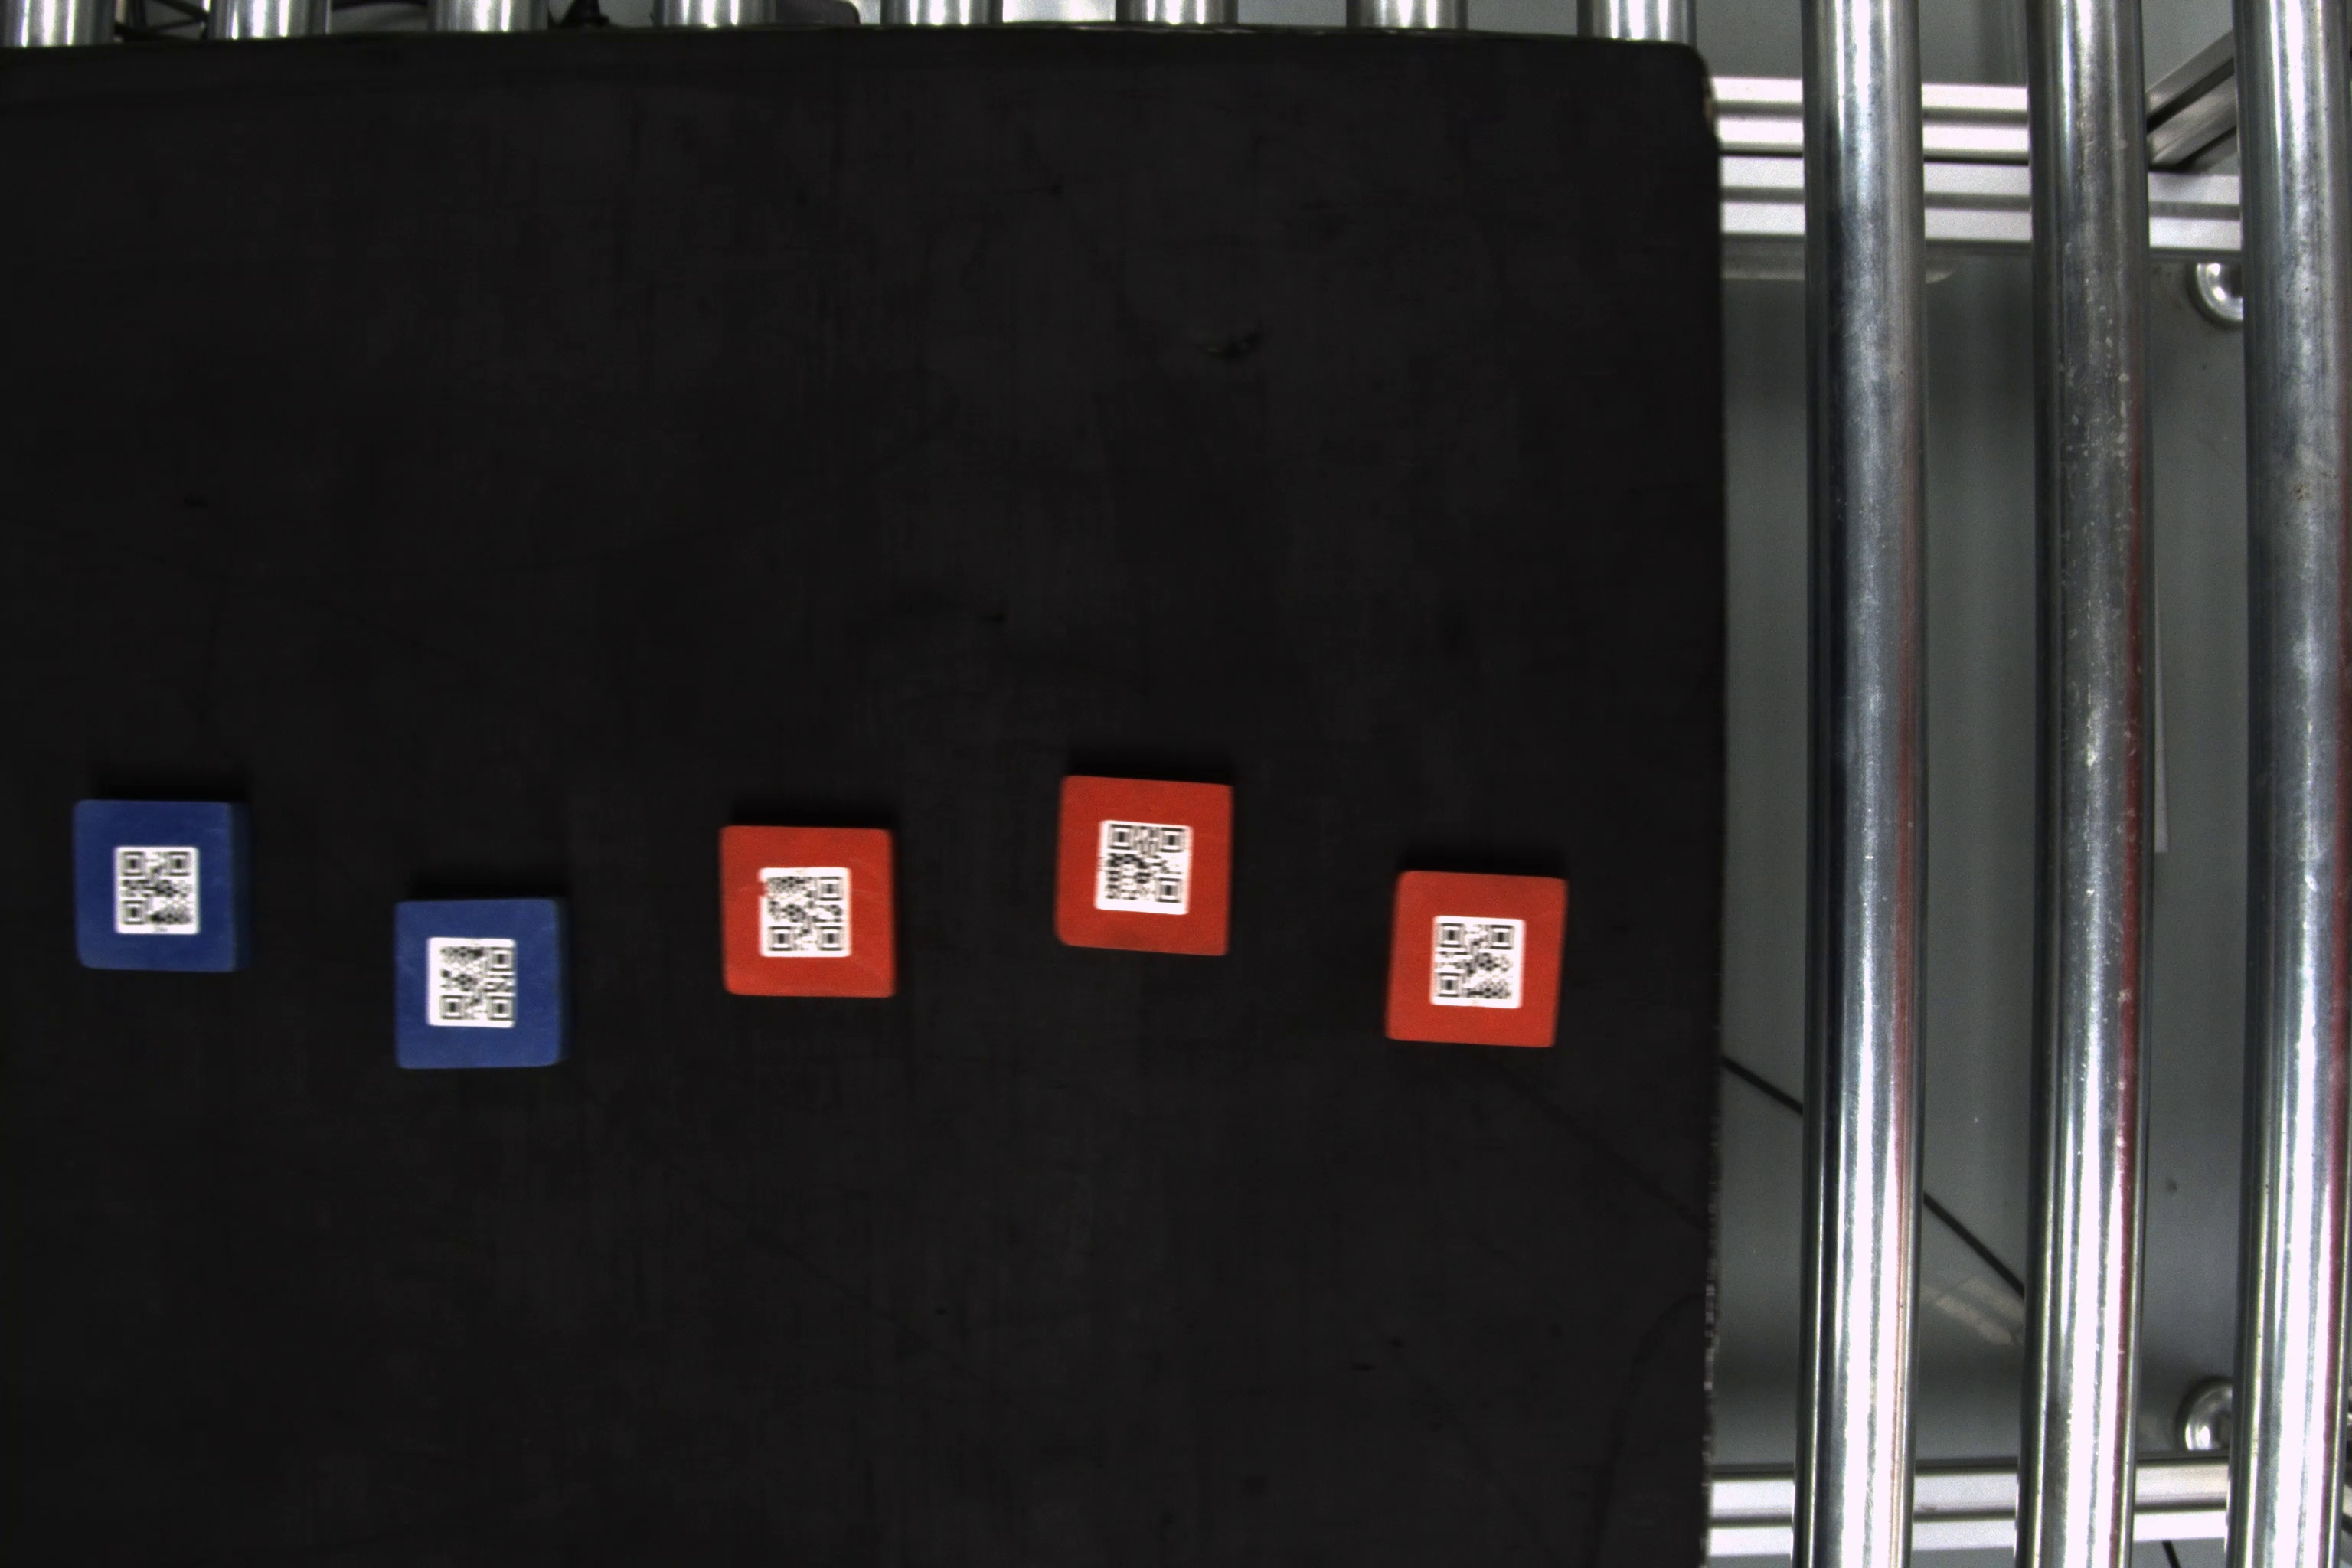wood: (1052, 766, 1239, 962), (709, 821, 901, 1004), (1382, 864, 1571, 1050), (68, 793, 254, 978), (387, 896, 574, 1071)
